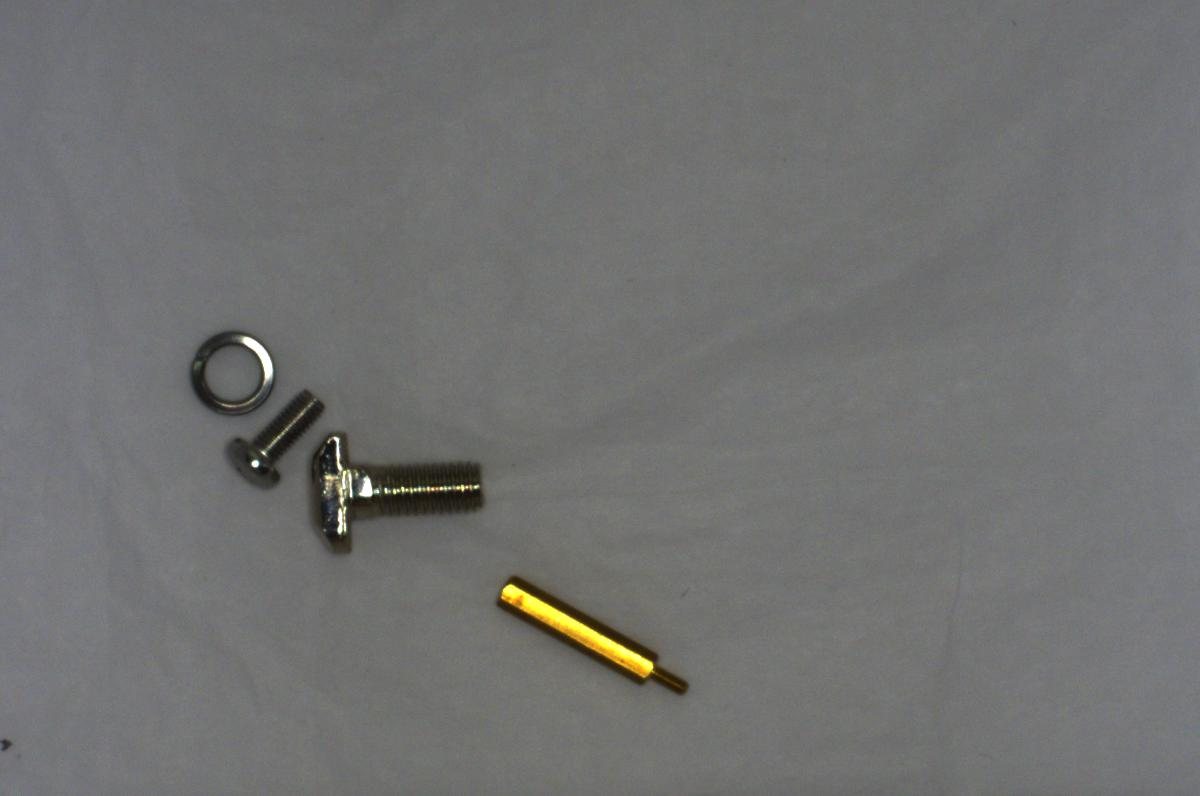Hexagon pillar: (481, 570, 704, 702)
Round head screw: (215, 388, 332, 490)
Spring washer: (184, 323, 277, 419)
T-shaped screw: (302, 427, 492, 553)
